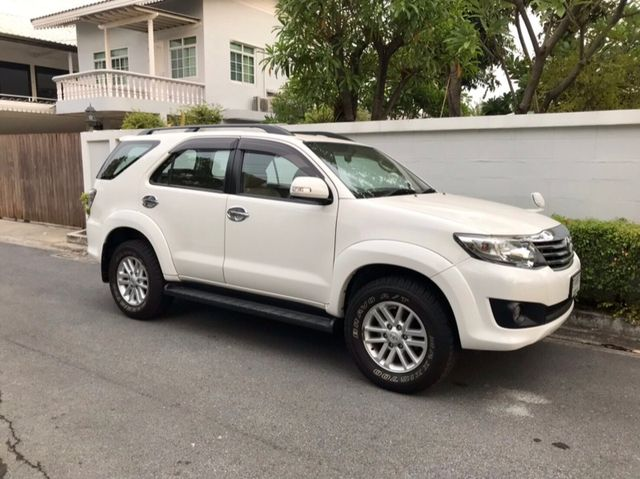pickup: (83, 123, 583, 395)
